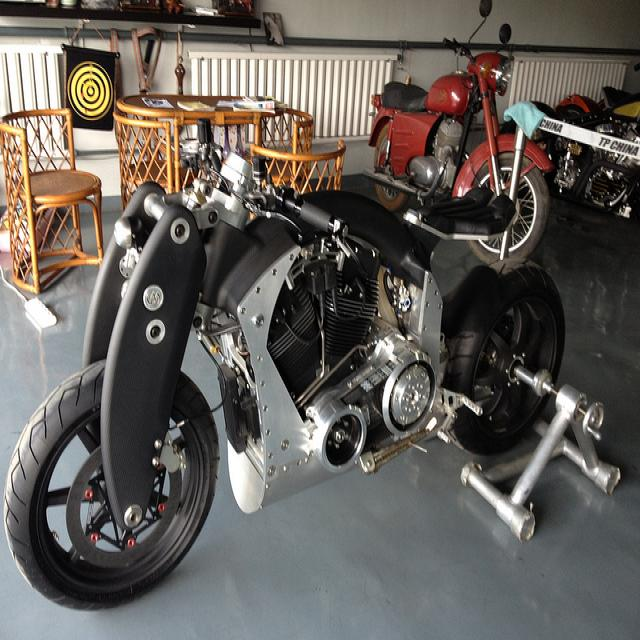motor: (1, 120, 565, 614), (361, 0, 555, 254), (500, 85, 640, 220)
